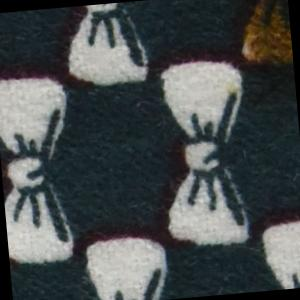Oil Stain: (235, 1, 294, 75)
Stain: (225, 81, 241, 98)
